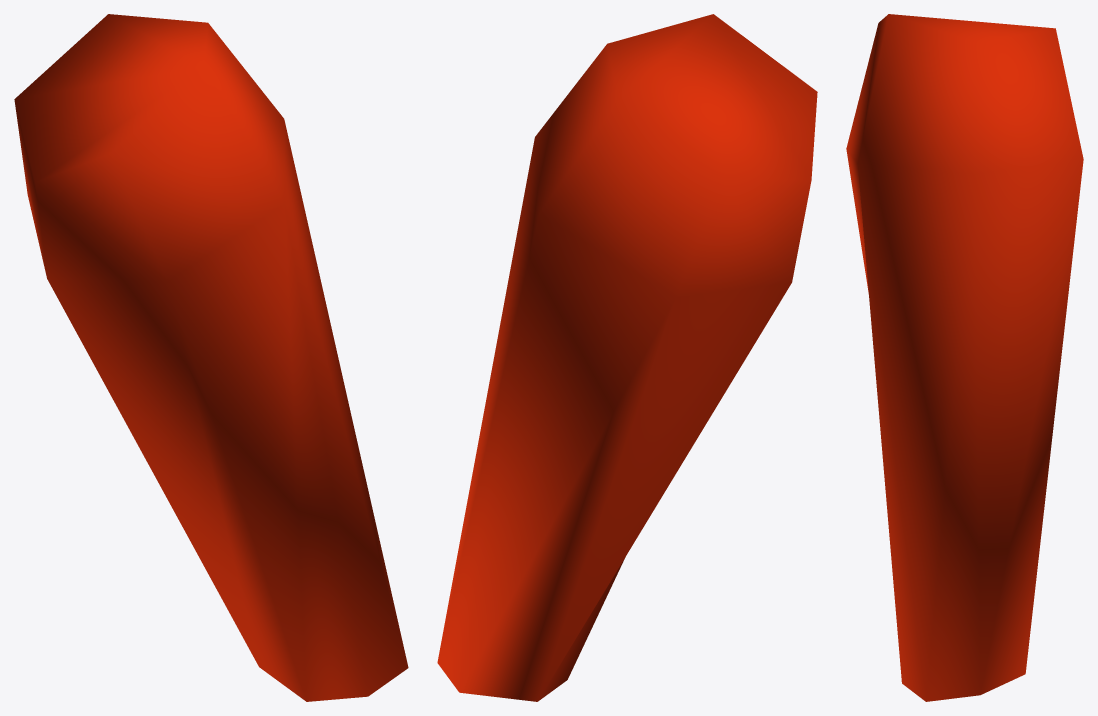
The model's file is BrazoDere.obj.
3 renders of one model, left to right at view 1: azimuth 30°, elevation 25°; view 2: azimuth 150°, elevation 25°; view 3: azimuth 270°, elevation 25°, orthographic. The views are drawn at different scales.
Visible parts, largest first — view 1: BrazoDere; view 2: BrazoDere; view 3: BrazoDere.
Boxes of the visible parts, bbox=[...] form: BrazoDere: bbox=[14, 14, 408, 701]; BrazoDere: bbox=[437, 14, 817, 701]; BrazoDere: bbox=[846, 14, 1083, 701].
Size of the model in its own units: 4.61 by 8.34 by 3.
1 material, 1 textured.
